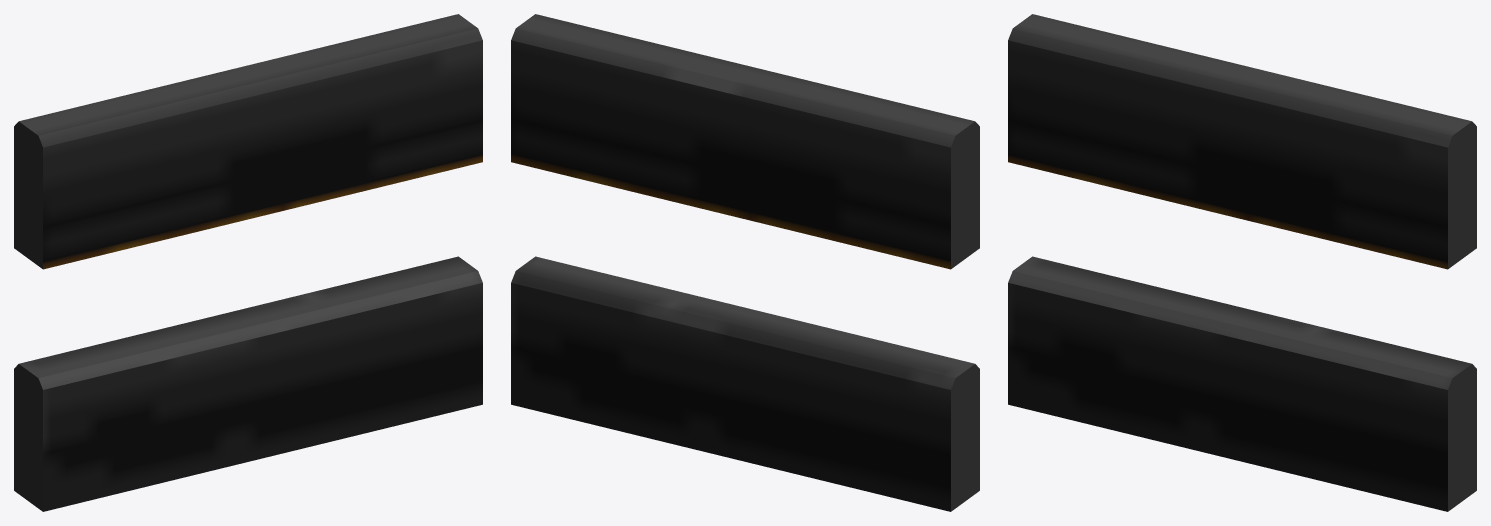
Rendered from fence_0378x01.obj.
3 renders of one model, left to right at view 1: azimuth 30°, elevation 25°; view 2: azimuth 150°, elevation 25°; view 3: azimuth 330°, elevation 25°, orthographic.
Parts seen in each view (by area): view 1: fenceboard_darkwood; view 2: fenceboard_darkwood; view 3: fenceboard_darkwood.
Part boxes in pixels (x1,y1,x2,y2): fenceboard_darkwood: (14,14,482,511); fenceboard_darkwood: (511,14,979,511); fenceboard_darkwood: (1008,14,1476,511).
Bounding box in the file's own units: 2.23 × 1.81 × 0.2551.
